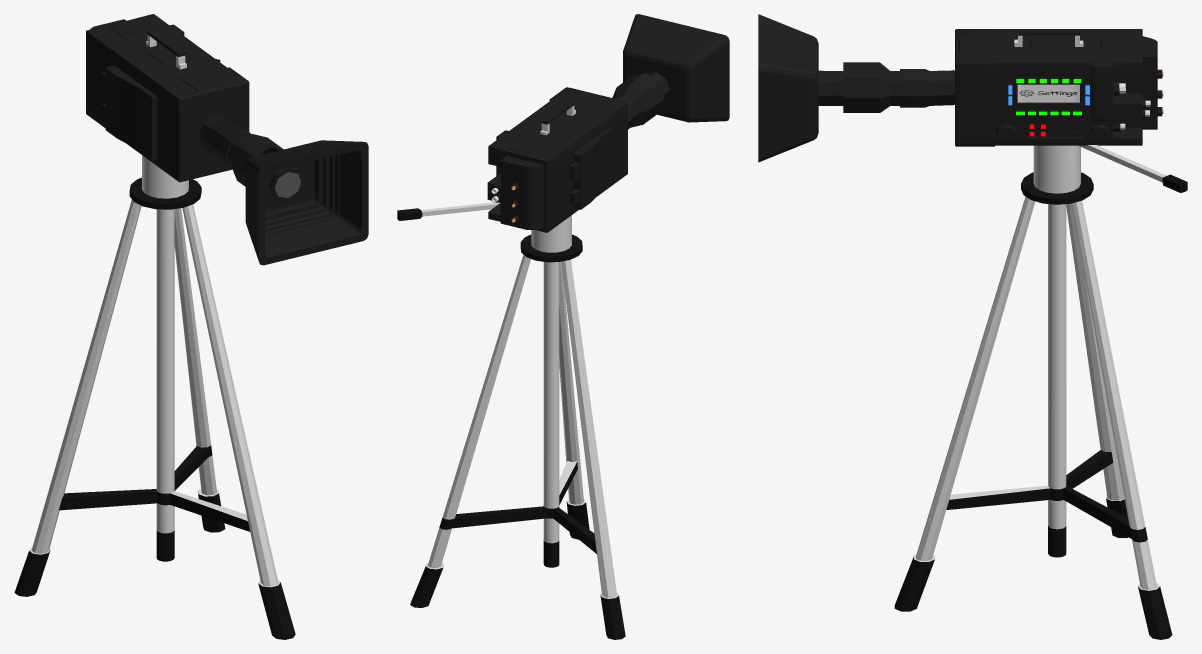
Rendered from Camera.glb.
The picture shows the model from 3 angles, left to right: view 1: azimuth 30°, elevation 25°; view 2: azimuth 150°, elevation 25°; view 3: azimuth 270°, elevation 25°; orthographic projection. The views are drawn at different scales.
Parts seen in each view (by area): view 1: Cube, Cylinder; view 2: Cube, Cylinder; view 3: Cube, Cylinder.
Boxes of the visible parts, x1,y1,x2,y2 form: Cube: (86,14,368,265); Cylinder: (14,59,295,639); Cube: (487,14,729,232); Cylinder: (397,202,625,639); Cube: (758,14,1163,162); Cylinder: (894,145,1187,639).
Bounding box in the file's own units: 4.19 × 9.51 × 6.69.
Materials: 9 (1 with a texture image).
